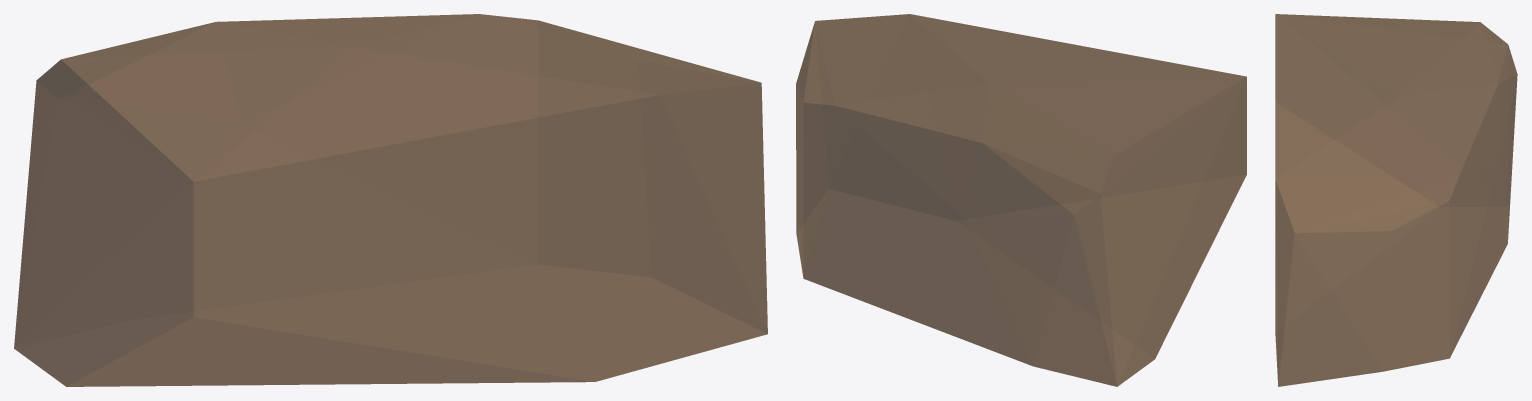
3 renders of one model, left to right at view 1: azimuth 30°, elevation 25°; view 2: azimuth 150°, elevation 25°; view 3: azimuth 270°, elevation 25°, orthographic. The views are drawn at different scales.
Parts seen in each view (by area): view 1: Shape_IndexedFaceSet.021_Shape_IndexedFaceSet.16003; view 2: Shape_IndexedFaceSet.021_Shape_IndexedFaceSet.16003; view 3: Shape_IndexedFaceSet.021_Shape_IndexedFaceSet.16003.
Boxes of the visible parts, x1,y1,x2,y2 form: Shape_IndexedFaceSet.021_Shape_IndexedFaceSet.16003: (14,14,767,386); Shape_IndexedFaceSet.021_Shape_IndexedFaceSet.16003: (796,14,1246,386); Shape_IndexedFaceSet.021_Shape_IndexedFaceSet.16003: (1275,14,1517,386).
Bounding box in the file's own units: 0.1555 × 0.076 × 0.0864.
